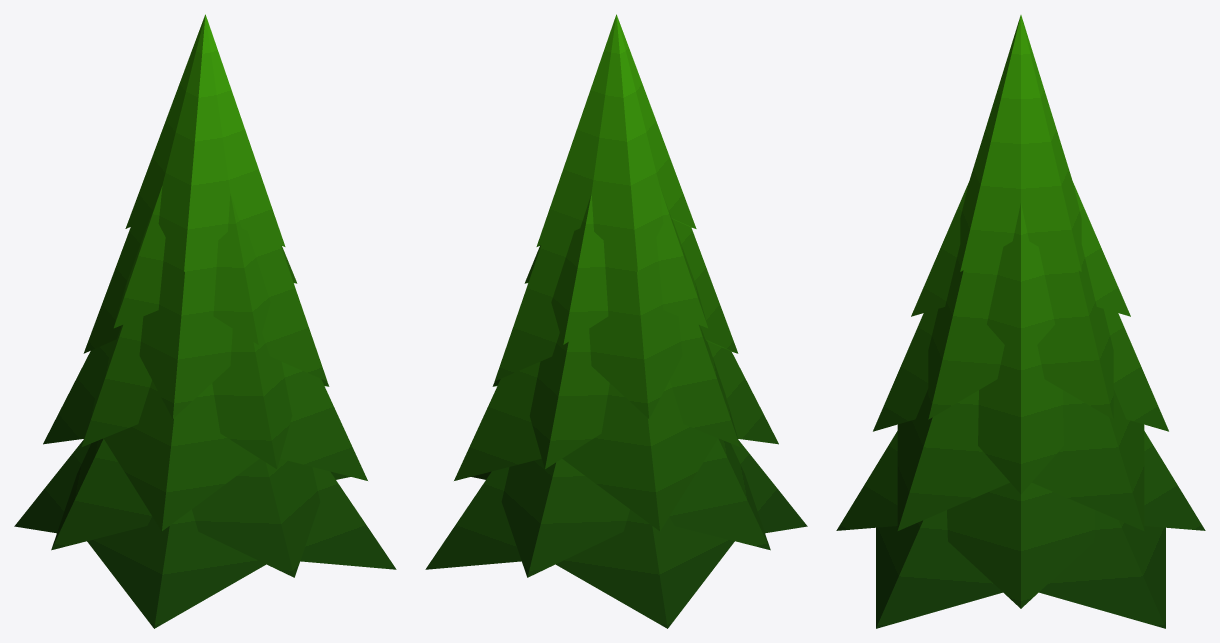
The model's file is Prefab_Xmas_Tree_E.glb.
3 renders of one model, left to right at view 1: azimuth 30°, elevation 25°; view 2: azimuth 150°, elevation 25°; view 3: azimuth 270°, elevation 25°, orthographic. The views are drawn at different scales.
Parts seen in each view (by area): view 1: Tree_E; view 2: Tree_E; view 3: Tree_E.
Boxes of the visible parts, bbox=[...] form: Tree_E: bbox=[14, 14, 396, 628]; Tree_E: bbox=[425, 14, 807, 628]; Tree_E: bbox=[836, 15, 1205, 628].
Size of the model in its own units: 1.4 by 2.31 by 1.4.
1 material, 1 textured.
